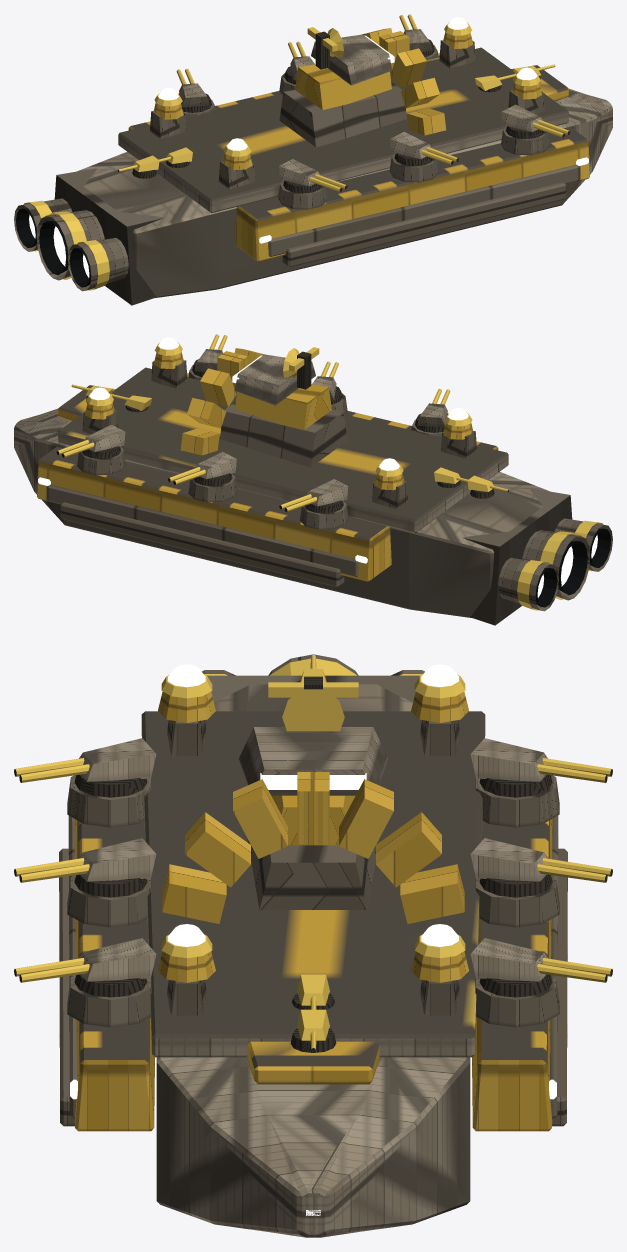
File: cruiser.glb
The picture shows the model from 3 angles, top to bottom: view 1: azimuth 30°, elevation 25°; view 2: azimuth 150°, elevation 25°; view 3: azimuth 270°, elevation 25°; orthographic projection. The views are drawn at different scales.
Visible parts, largest first — view 1: hull_body, engine_block, weapon_turrets, sensor_tower, shield_pylons; view 2: hull_body, engine_block, weapon_turrets, sensor_tower, shield_pylons; view 3: hull_body, weapon_turrets, sensor_tower, shield_pylons, engine_block.
Boxes of the visible parts, x1,y1,x2,y2 form: hull_body: [77, 28, 612, 297]; engine_block: [14, 168, 163, 305]; weapon_turrets: [118, 14, 570, 209]; sensor_tower: [279, 27, 406, 147]; shield_pylons: [150, 17, 544, 189]; hull_body: [14, 348, 549, 617]; engine_block: [463, 488, 612, 625]; weapon_turrets: [56, 334, 508, 529]; sensor_tower: [220, 347, 347, 467]; shield_pylons: [82, 337, 476, 509]; hull_body: [59, 684, 567, 1237]; weapon_turrets: [14, 654, 612, 1052]; sensor_tower: [239, 676, 387, 909]; shield_pylons: [158, 664, 468, 1015]; engine_block: [202, 654, 424, 702].
Bounding box in the file's own units: 42 × 14.01 × 21.28.
1 material, 1 textured.
